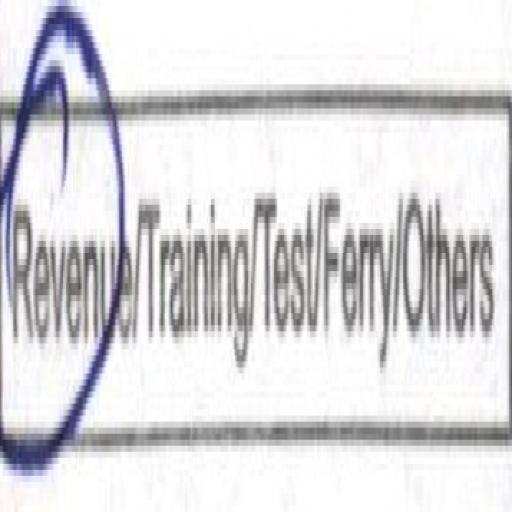check: (0, 0, 138, 456)
